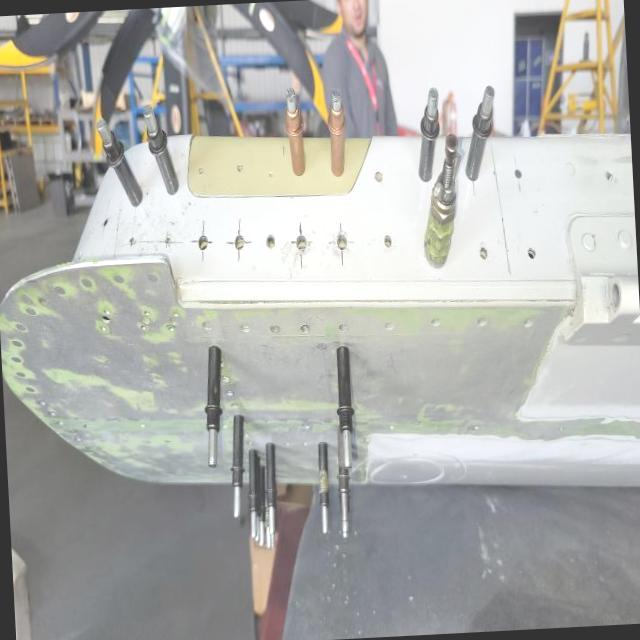Missing Fastener: (186, 222, 218, 266), (224, 215, 254, 261), (330, 220, 358, 262), (260, 222, 288, 261), (187, 152, 211, 192), (293, 222, 313, 268), (468, 232, 493, 268), (365, 159, 388, 195), (521, 236, 545, 270), (508, 158, 534, 188), (232, 150, 252, 183), (377, 224, 395, 254)
